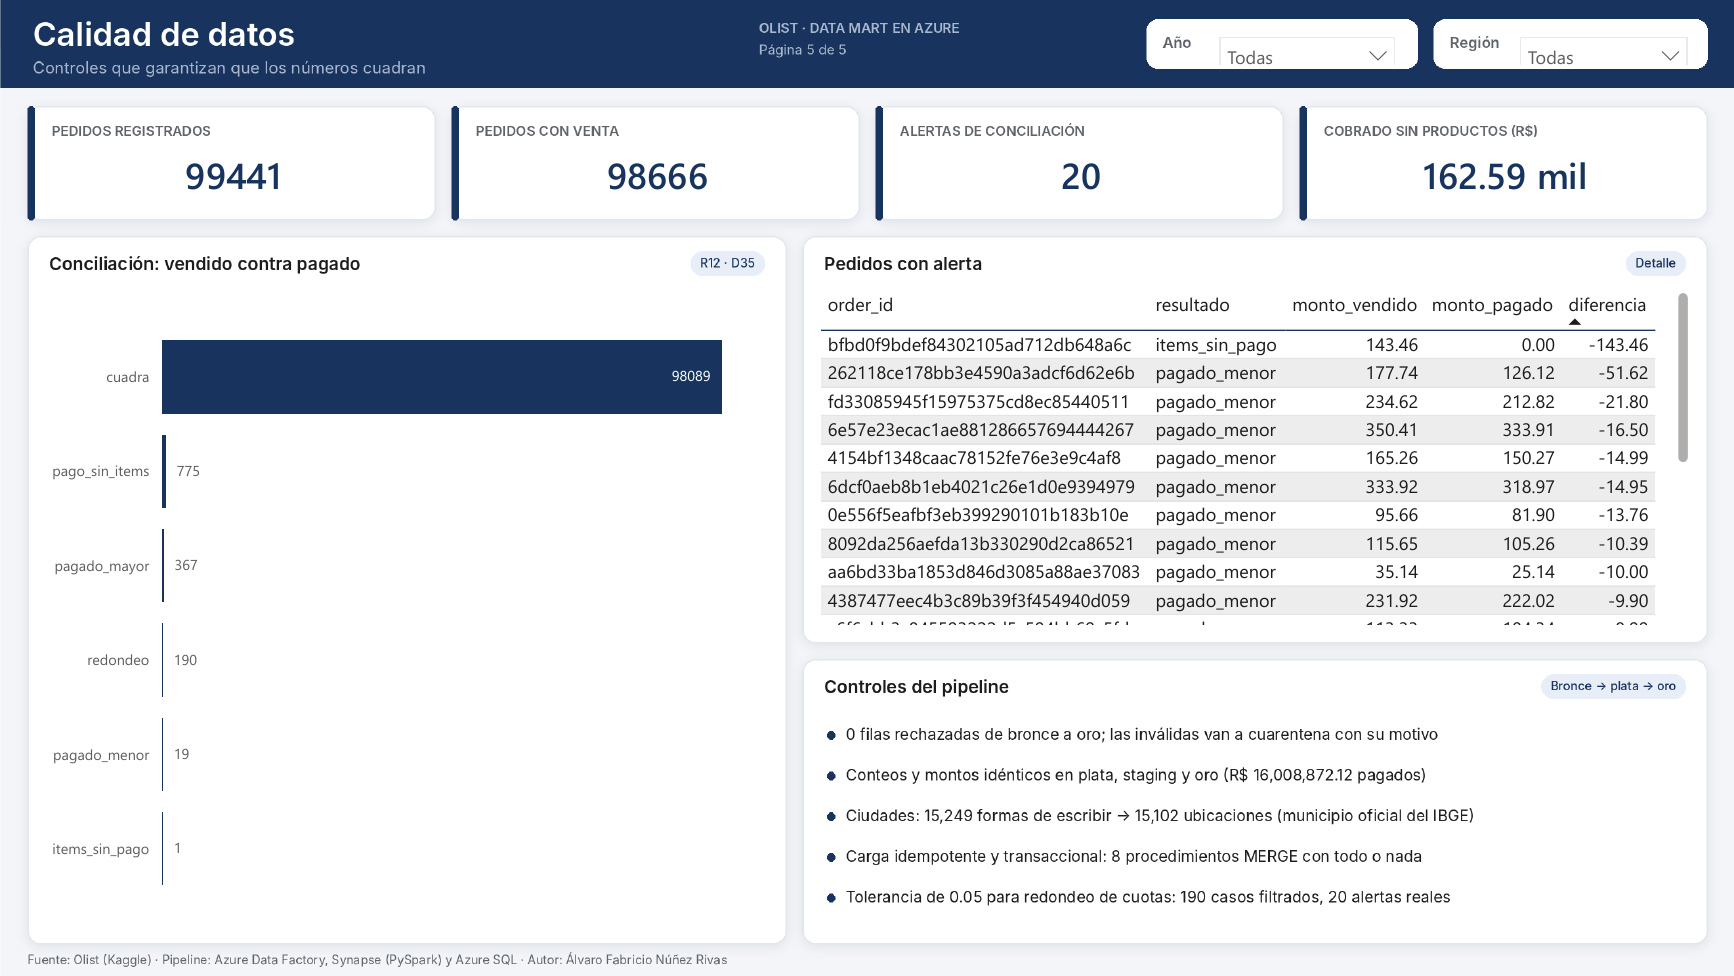

This screenshot's page, from the dashboard's own definition file:
{"tool":"powerbi","page":{"name":"Calidad","canvas":[1280,720],"ordinal":4},"visuals":[{"type":"slicer","fields":{"Values":["dim_fecha.anio"]},"box":[890,17,150,30],"z":0},{"type":"slicer","fields":{"Values":["dim_ubicacion.region"]},"box":[1112,17,144,30],"z":1},{"type":"card","fields":{"Values":["_Medidas.Pedidos registrados"]},"box":[28,100,289,60],"z":2},{"type":"card","fields":{"Values":["_Medidas.Pedidos con venta"]},"box":[341,100,289,60],"z":3},{"type":"card","fields":{"Values":["_Medidas.Alertas de conciliación"]},"box":[654,100,289,60],"z":4},{"type":"card","fields":{"Values":["_Medidas.Cobrado sin productos"]},"box":[967,100,289,60],"z":5},{"type":"clusteredBarChart","fields":{"Category":["v_conciliacion_pedidos.resultado"],"Y":["_Medidas.Pedidos conciliados"]},"box":[28,210,544,478],"z":6},{"type":"tableEx","fields":{"Values":["v_conciliacion_pedidos.order_id","v_conciliacion_pedidos.resultado","v_conciliacion_pedidos.monto_vendido","v_conciliacion_pedidos.monto_pagado","v_conciliacion_pedidos.diferencia"]},"box":[600,210,652,256],"z":7}]}

Visuals, with their boxes in screenshot pixels (x1, y1, x2, y2), scaled from the page's 1280x720 canvas onto the 1734x976 screenshot:
slicer - dim_fecha.anio: x1=1206 y1=23 x2=1409 y2=64
slicer - dim_ubicacion.region: x1=1506 y1=23 x2=1701 y2=64
card - _Medidas.Pedidos registrados: x1=38 y1=136 x2=429 y2=217
card - _Medidas.Pedidos con venta: x1=462 y1=136 x2=853 y2=217
card - _Medidas.Alertas de conciliación: x1=886 y1=136 x2=1277 y2=217
card - _Medidas.Cobrado sin productos: x1=1310 y1=136 x2=1701 y2=217
clusteredBarChart - v_conciliacion_pedidos.resultado x _Medidas.Pedidos conciliados: x1=38 y1=285 x2=775 y2=933
tableEx - v_conciliacion_pedidos.order_id x v_conciliacion_pedidos.resultado: x1=813 y1=285 x2=1696 y2=632
